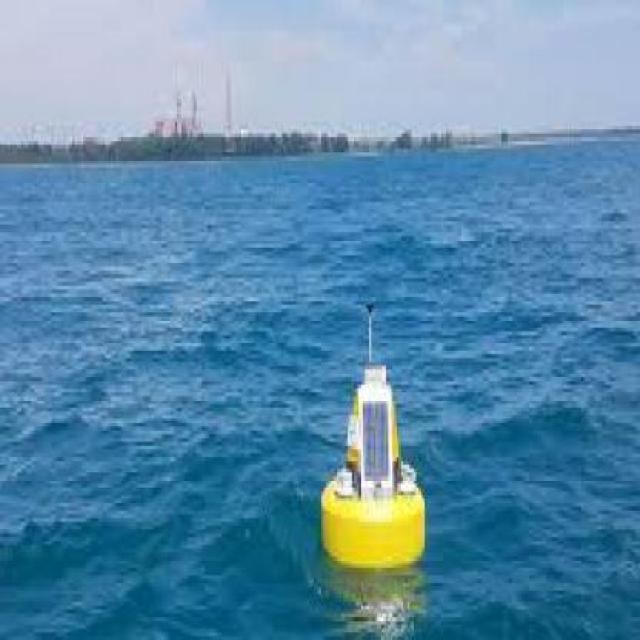buoy: (308, 291, 432, 577)
